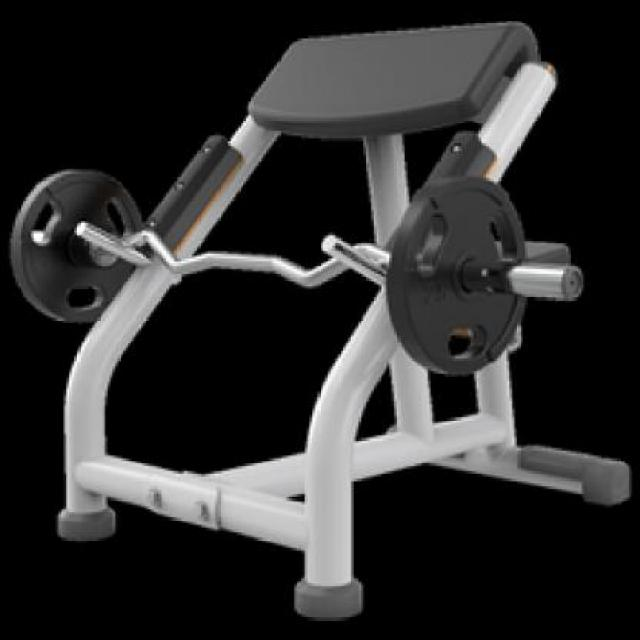arm curl machine: (9, 20, 631, 622)
